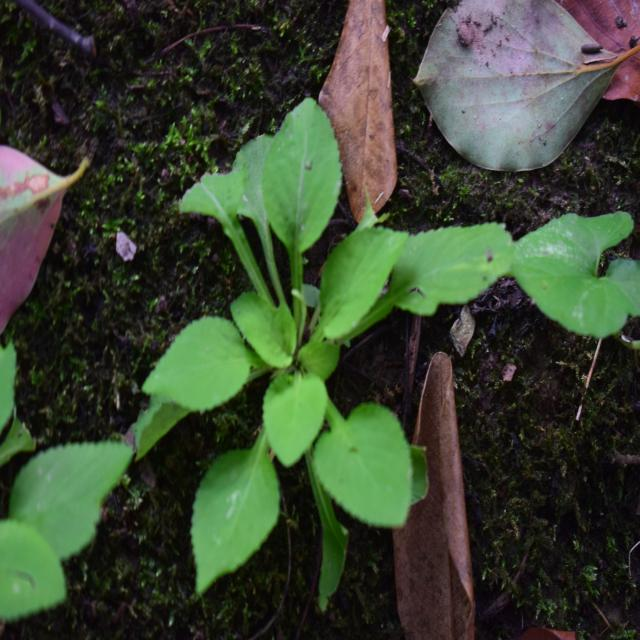Viola: (179, 116, 481, 554)
